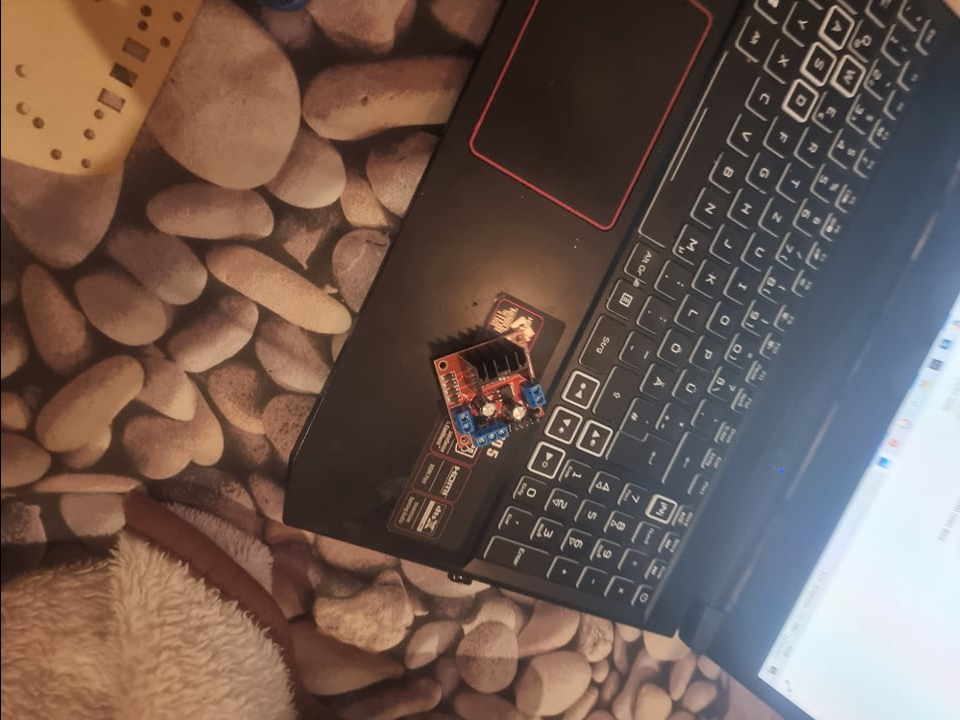MOTOR: (429, 324, 549, 455)
